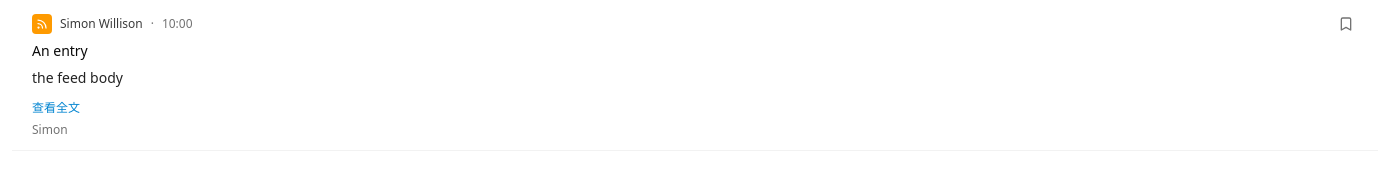
Test case: RssCard › opens the detail pane on 查看全文 instead of expanding in place
Click the button "查看全文" at {"x": 56, "y": 108}, box x1=32 y1=100 x2=80 y2=116
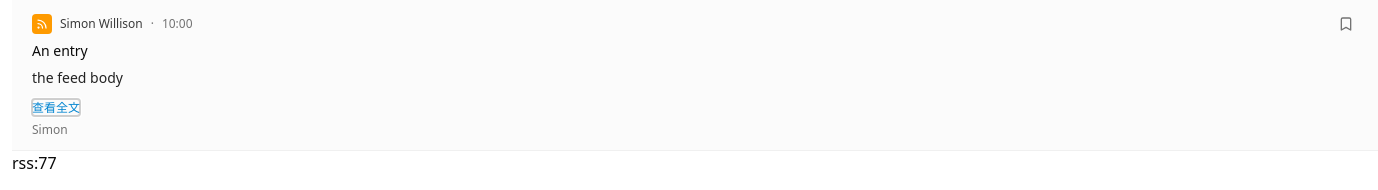
expect the text with test id "open-key" reads "rss:77": met, box x1=12 y1=152 x2=56 y2=174
